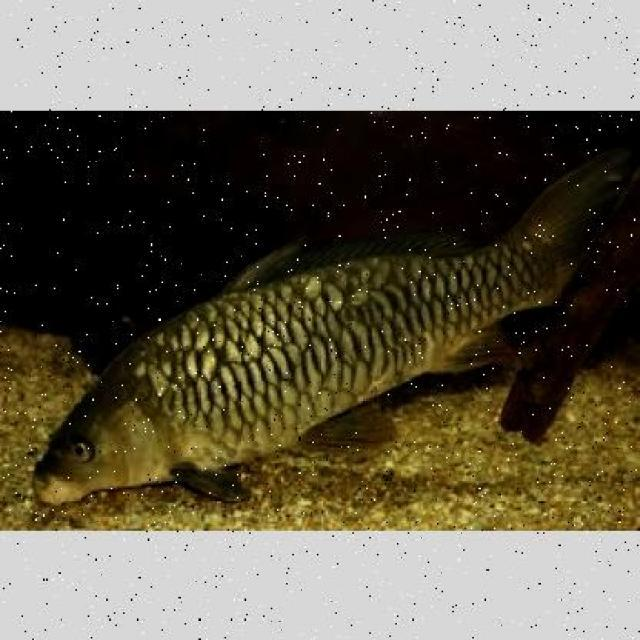ikan-mas: (39, 233, 595, 502)
